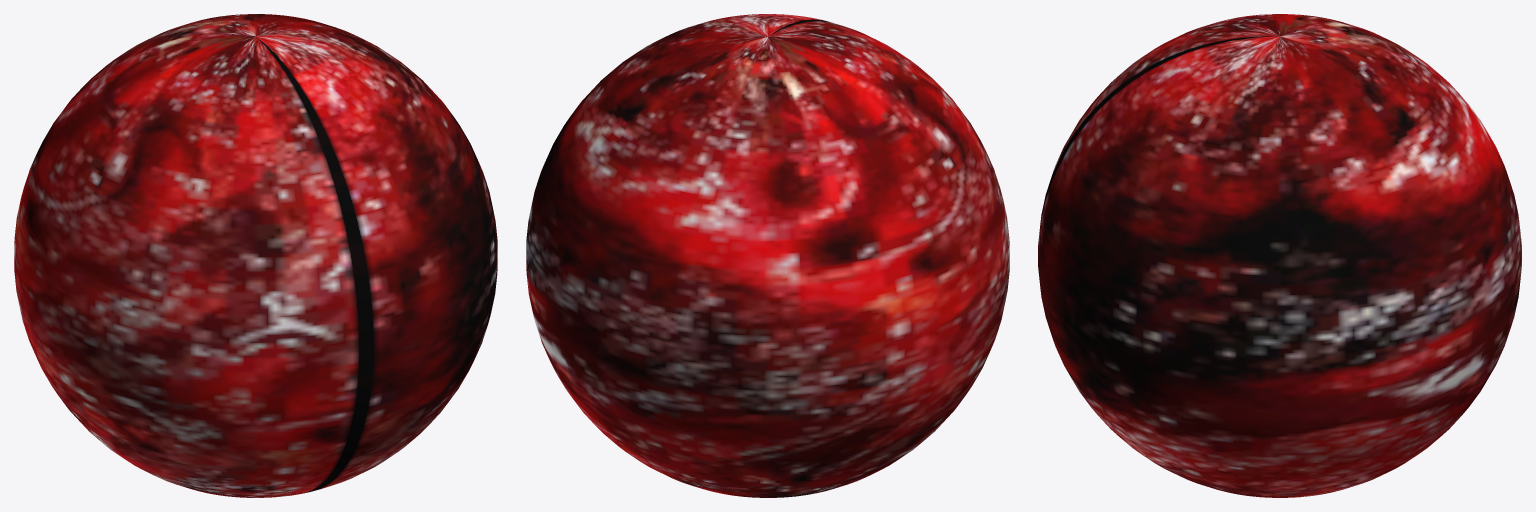
The model's file is gore_ball.gltf.
3 renders of one model, left to right at view 1: azimuth 30°, elevation 25°; view 2: azimuth 150°, elevation 25°; view 3: azimuth 270°, elevation 25°, orthographic.
Parts seen in each view (by area): view 1: skin; view 2: skin; view 3: skin.
Part boxes in pixels (left/top/right/bottom): skin: left=14, top=14, right=497, bottom=497; skin: left=526, top=14, right=1009, bottom=497; skin: left=1038, top=14, right=1521, bottom=497.
Bounding box in the file's own units: 0.9989 × 1 × 0.9989.
1 material, 1 textured.
